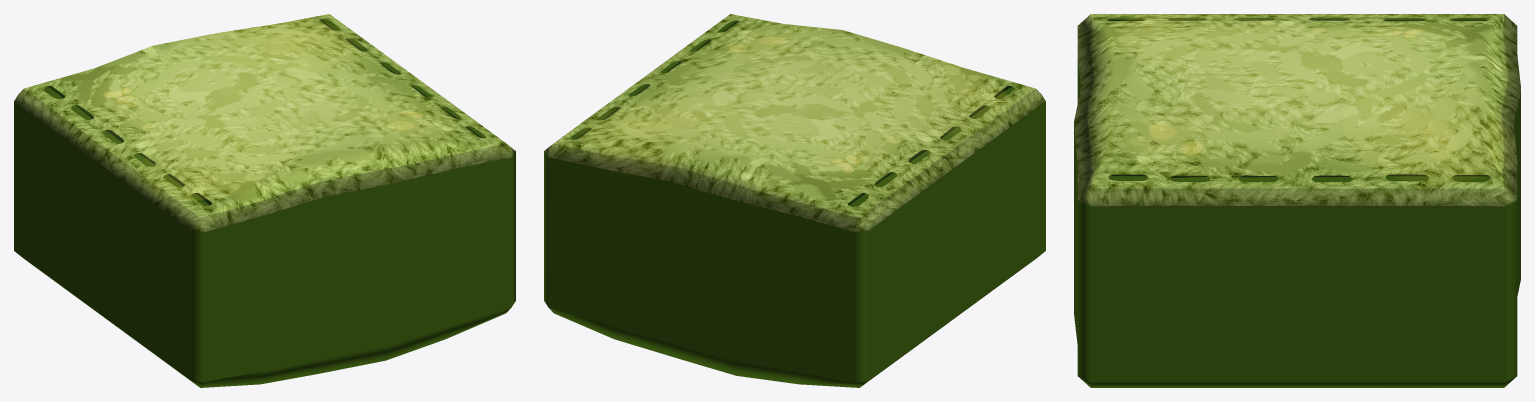
The model's file is SM_Bloc 1.FBX.
3 renders of one model, left to right at view 1: azimuth 30°, elevation 25°; view 2: azimuth 150°, elevation 25°; view 3: azimuth 270°, elevation 25°, orthographic. The views are drawn at different scales.
Parts seen in each view (by area): view 1: SM_Bloc; view 2: SM_Bloc; view 3: SM_Bloc.
Part boxes in pixels (<box>): SM_Bloc: <box>14,14,515,387</box>; SM_Bloc: <box>544,14,1045,387</box>; SM_Bloc: <box>1074,14,1520,387</box>.
Bounding box in the file's own units: 100 × 60.5 × 102.
